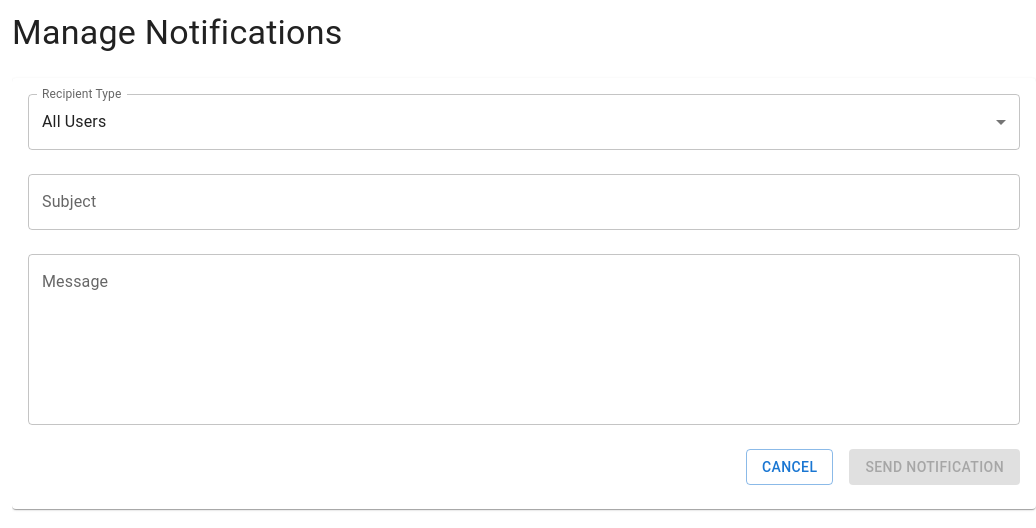
Test: ManageNotifications › disables send button when fields are empty
Expected: the button "Send Notification" is disabled, [849,449,1020,486]
In the field labelled "Subject": (524, 202) [28,174,1020,230], type "Test"
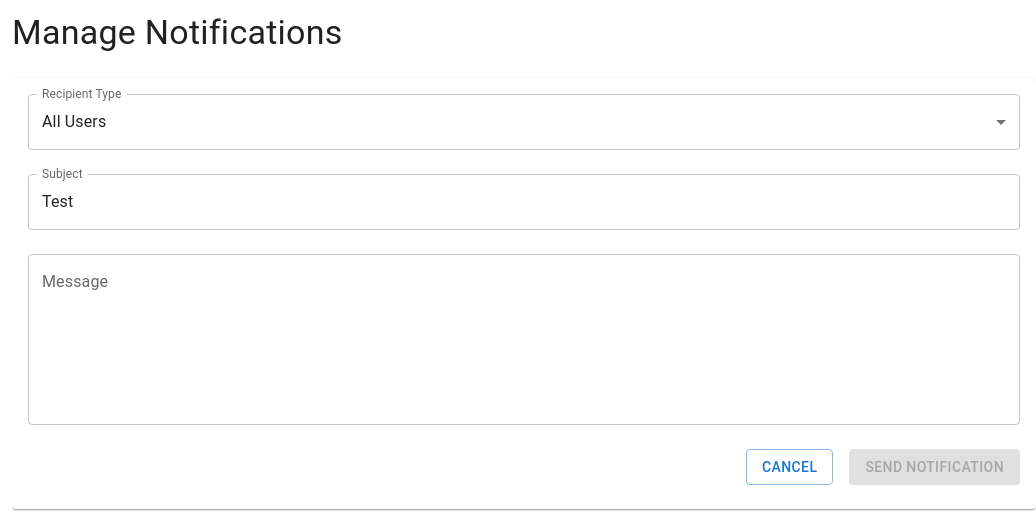
In the text box labelled "Message": (524, 340) [42,270,1006,408], type "Test"
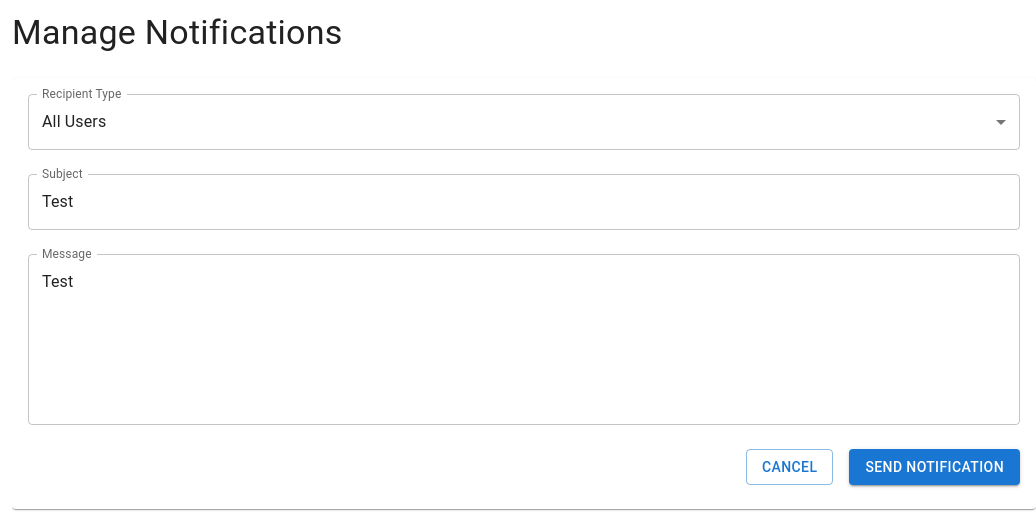
Result: the button "Send Notification" is enabled at [849,449,1020,486]
